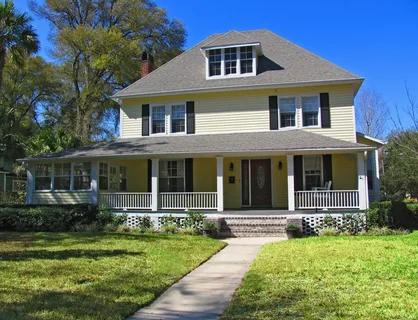private_hause: (114, 31, 375, 220)
